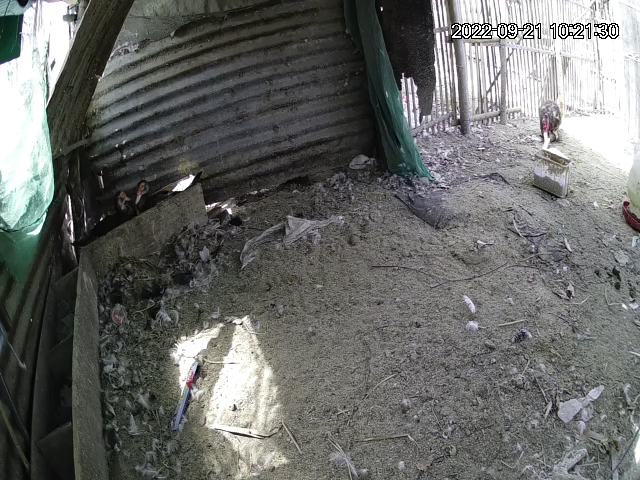Mengeram: (73, 173, 205, 241)
